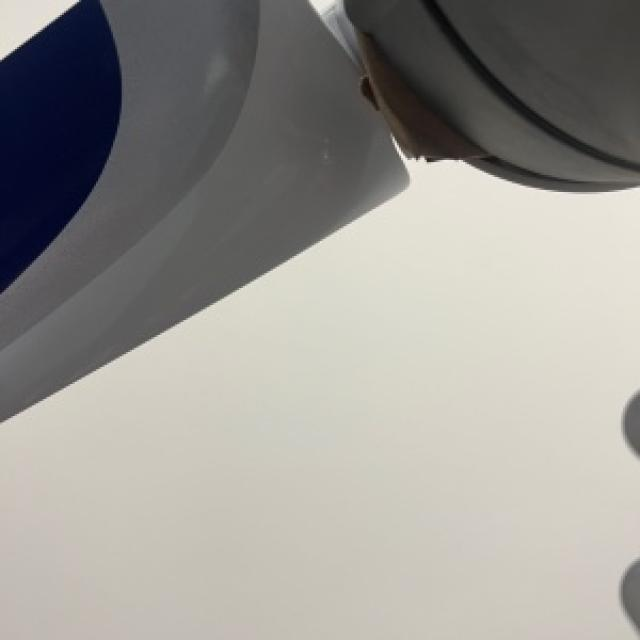healthy: (0, 160, 638, 638)
